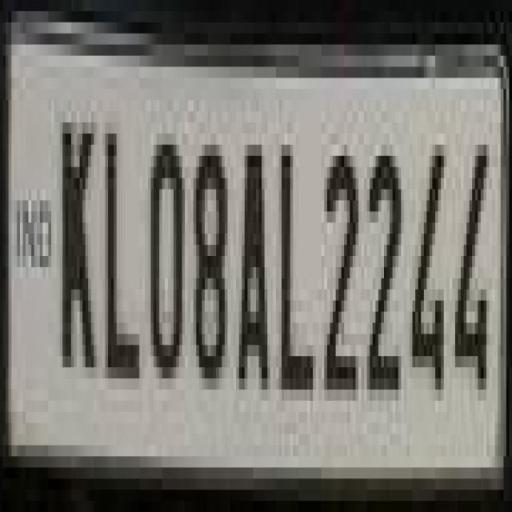number plate: (0, 33, 490, 501)
